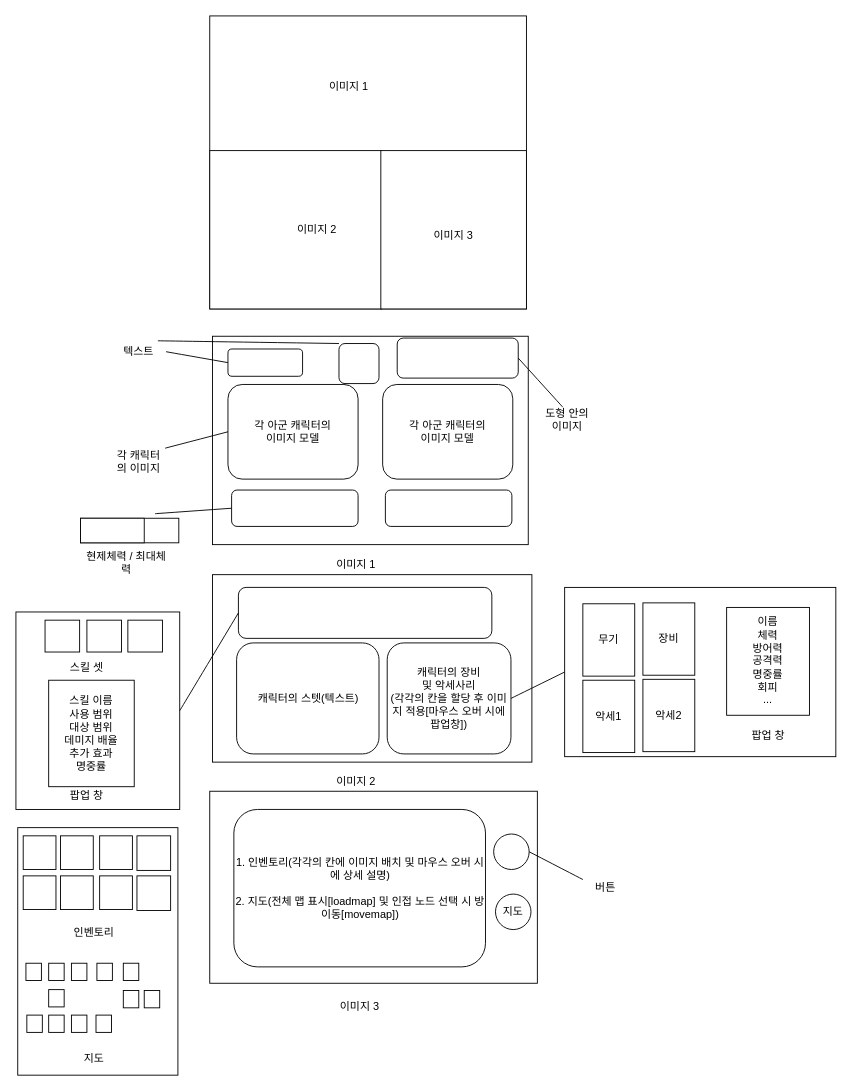
Some shapes in this 852 by 1091 pixel diagram are drawn without their labels. Here are the shapes that lost their labels. From the top down, the centre of each, then its label:
At pixel 265 362: "임무 목표".
At pixel 358 363: "현제 턴".
At pixel 457 357: "각 캐릭터 별 행동순서 마름모 도형, 캐릭터 이미지, 순서".
At pixel 294 507: "각 아군 별 체력(막대 형식), 상태이상(이미지) 효과 표시".
At pixel 448 507: "각 적군 별 체력(막대 형식), 상태이상(이미지) 효과 표시".
At pixel 365 612: "선택된 캐릭터의 스킬셋(각각의 개별 버튼) 마우스 오버 시에 상세 정보 표시(팝업 창[텍스트 및 일부 이미지 활용])".
At pixel 511 851: "인벤 토리".
